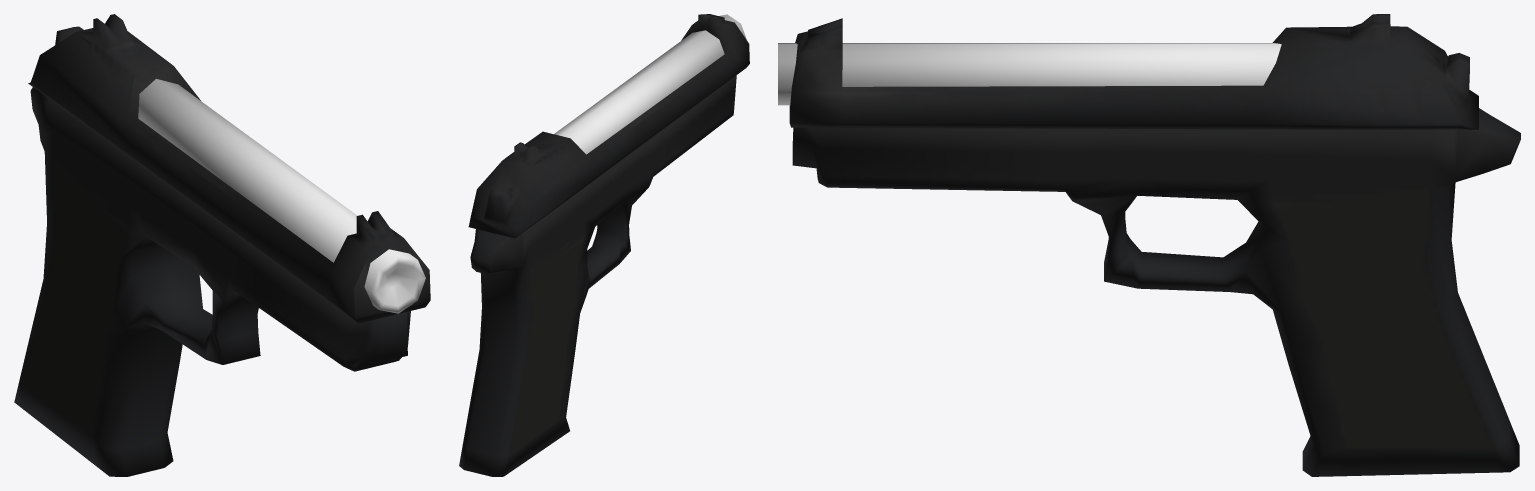
The model's file is Pistol.glb.
3 views of the same model, side by side, from view 1: azimuth 30°, elevation 25°; view 2: azimuth 150°, elevation 25°; view 3: azimuth 270°, elevation 25° (orthographic). The views are drawn at different scales.
Parts seen in each view (by area): view 1: Plane, Plane.001, Cylinder; view 2: Plane, Plane.001, Cylinder; view 3: Plane, Plane.001, Cylinder.
Part boxes in pixels (bbox=[...]): Plane: bbox=[14, 87, 410, 476]; Plane.001: bbox=[28, 14, 430, 323]; Cylinder: bbox=[138, 79, 425, 313]; Plane: bbox=[459, 75, 736, 476]; Plane.001: bbox=[468, 14, 749, 238]; Cylinder: bbox=[554, 14, 746, 154]; Plane: bbox=[792, 108, 1520, 476]; Plane.001: bbox=[789, 14, 1478, 129]; Cylinder: bbox=[778, 43, 1281, 105].
Bounding box in the file's own units: 0.7993 × 4.29 × 6.55.
Materials: 1 (1 with a texture image).
